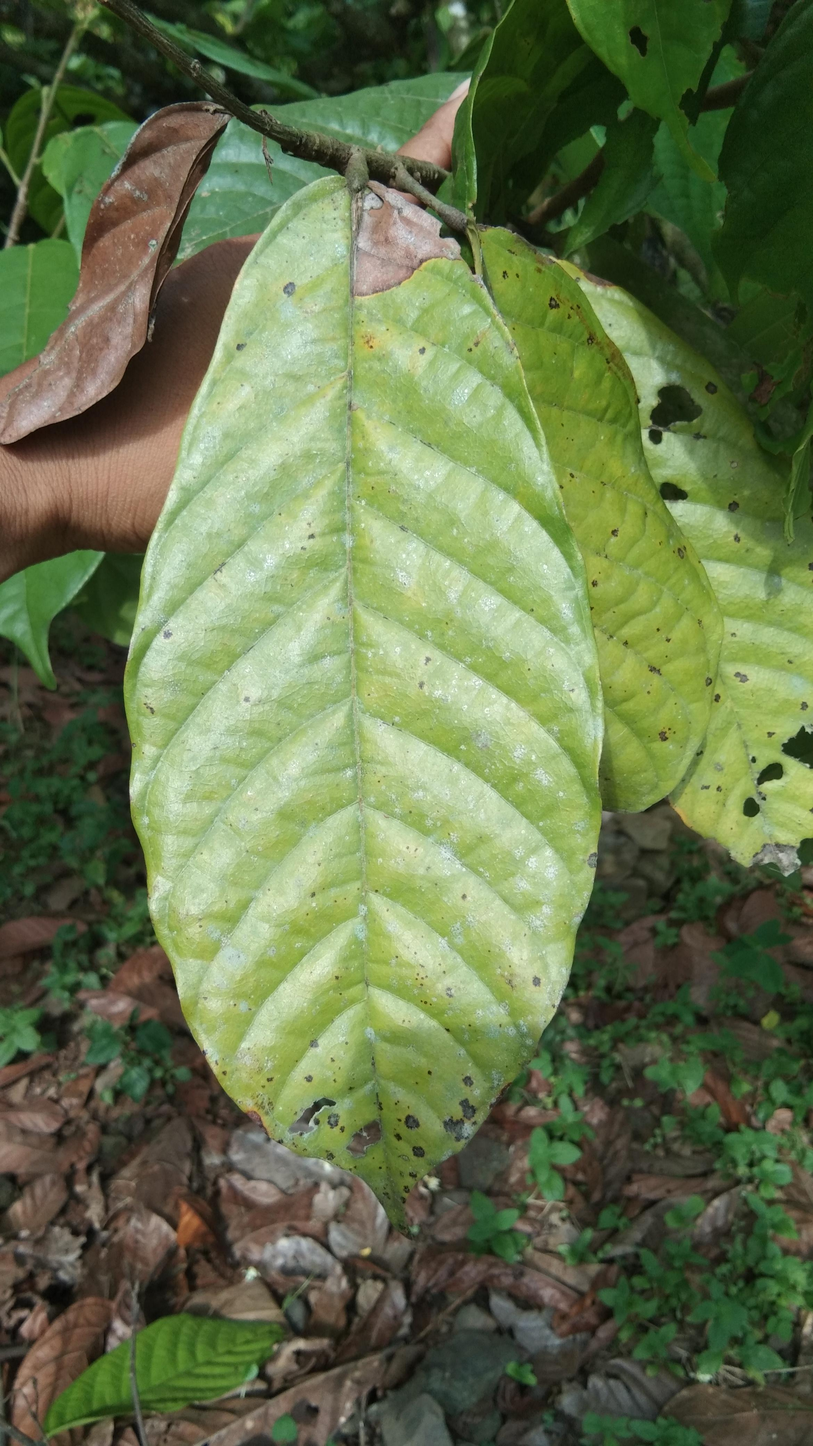deficiencia_potasio: (115, 153, 598, 1203)
